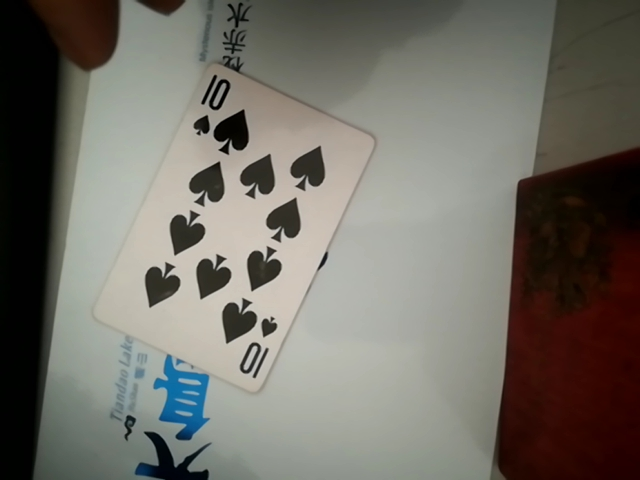ht 10: (109, 47, 370, 388)
